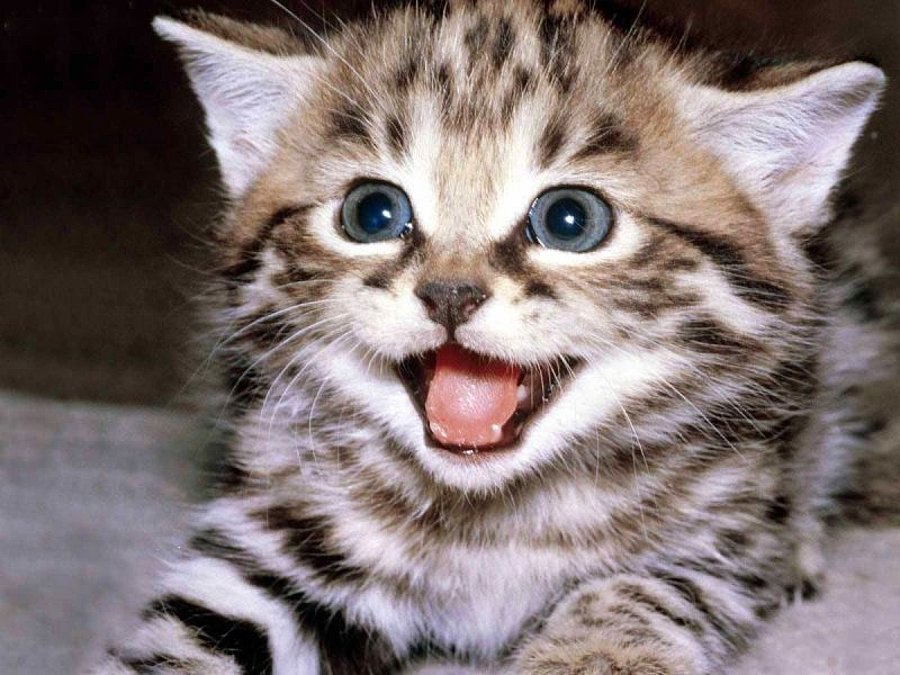cat: (178, 25, 810, 469)
